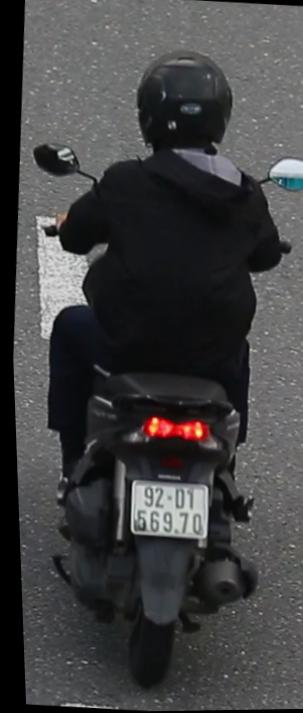LP: (120, 471, 211, 558)
helmet: (126, 40, 239, 164)
